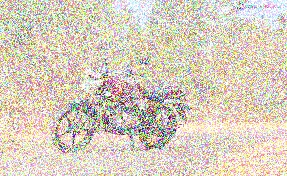Vehicle: (49, 43, 192, 156)
